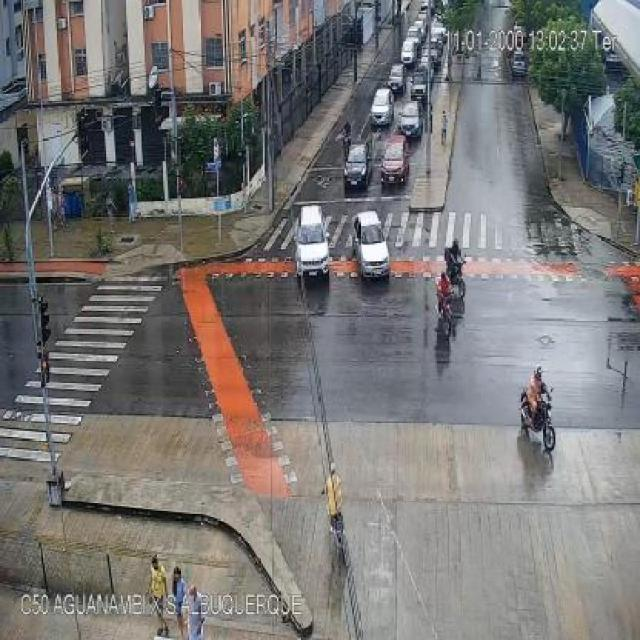Car: (291, 193, 332, 289), (349, 200, 398, 278), (341, 142, 376, 188), (380, 136, 412, 185), (368, 84, 395, 129), (400, 101, 424, 138), (386, 62, 408, 94), (508, 46, 530, 77), (395, 39, 419, 65), (410, 70, 430, 101), (416, 54, 434, 82), (426, 41, 446, 62), (407, 27, 421, 45)
Cycle: (495, 360, 588, 456), (441, 242, 483, 299), (428, 268, 459, 342), (337, 119, 354, 155)
